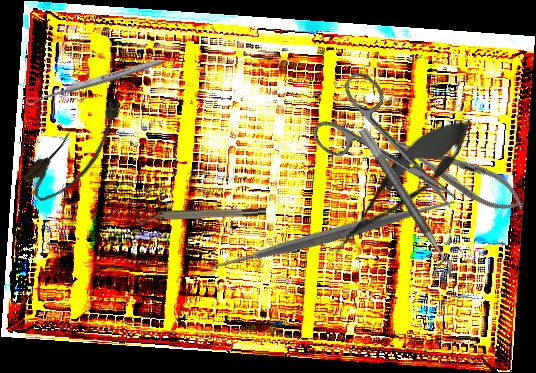Cannula: (18, 91, 139, 210)
Fixation Ring: (345, 126, 457, 283), (135, 205, 267, 226)
Iris Scissors: (302, 67, 481, 238)
Micro Scissor: (316, 101, 486, 271)
Needle Holder: (385, 124, 532, 222)
Spatula Surgical: (199, 101, 466, 368)
Surgical Spoon: (25, 56, 164, 107)
